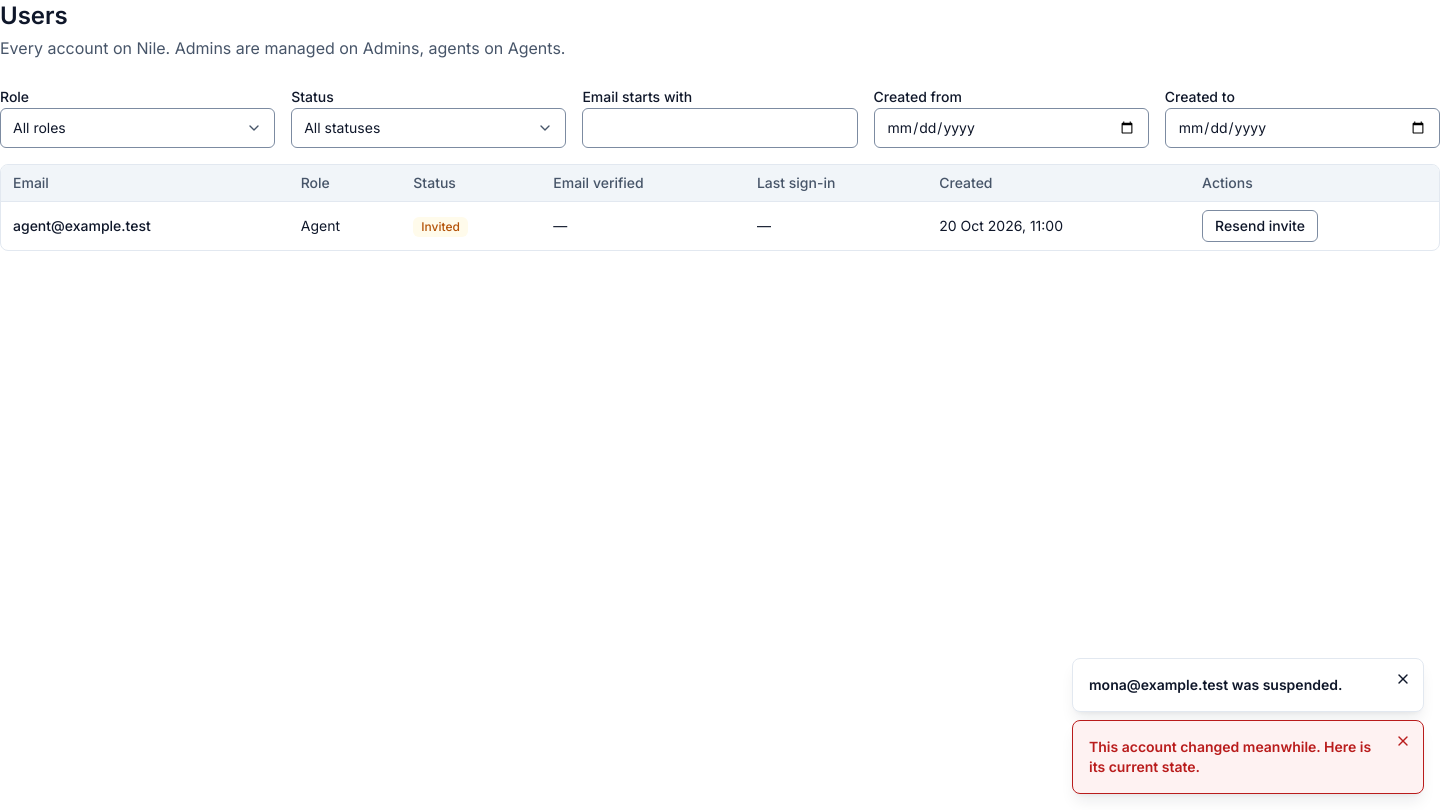
Test: users (spec 03 AD-24, T-M2) › resend an agent invite after confirming
Click the button "Resend invite": (1260, 226) [1202, 210, 1318, 242]
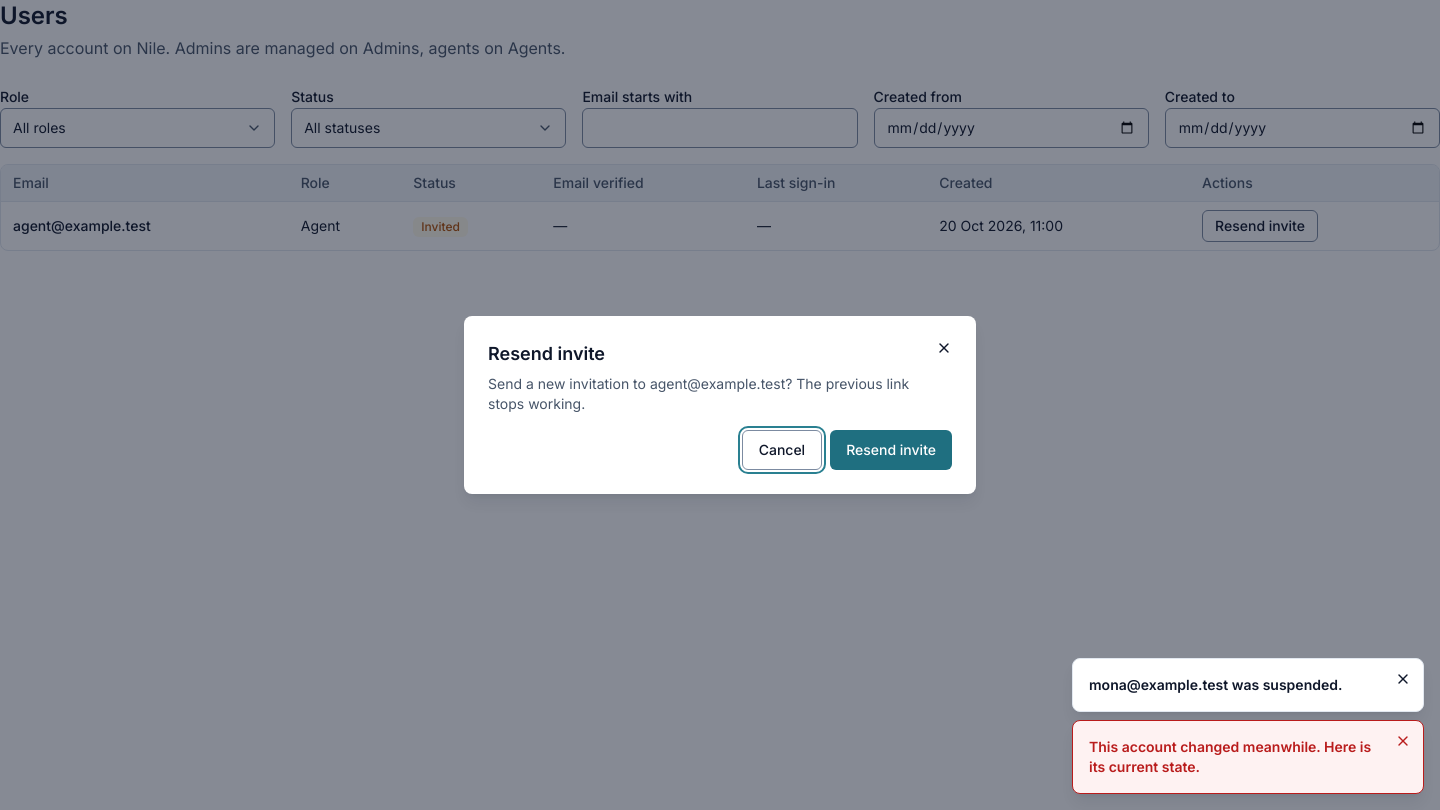
Click the button "Resend invite": (891, 450) [830, 430, 952, 470]
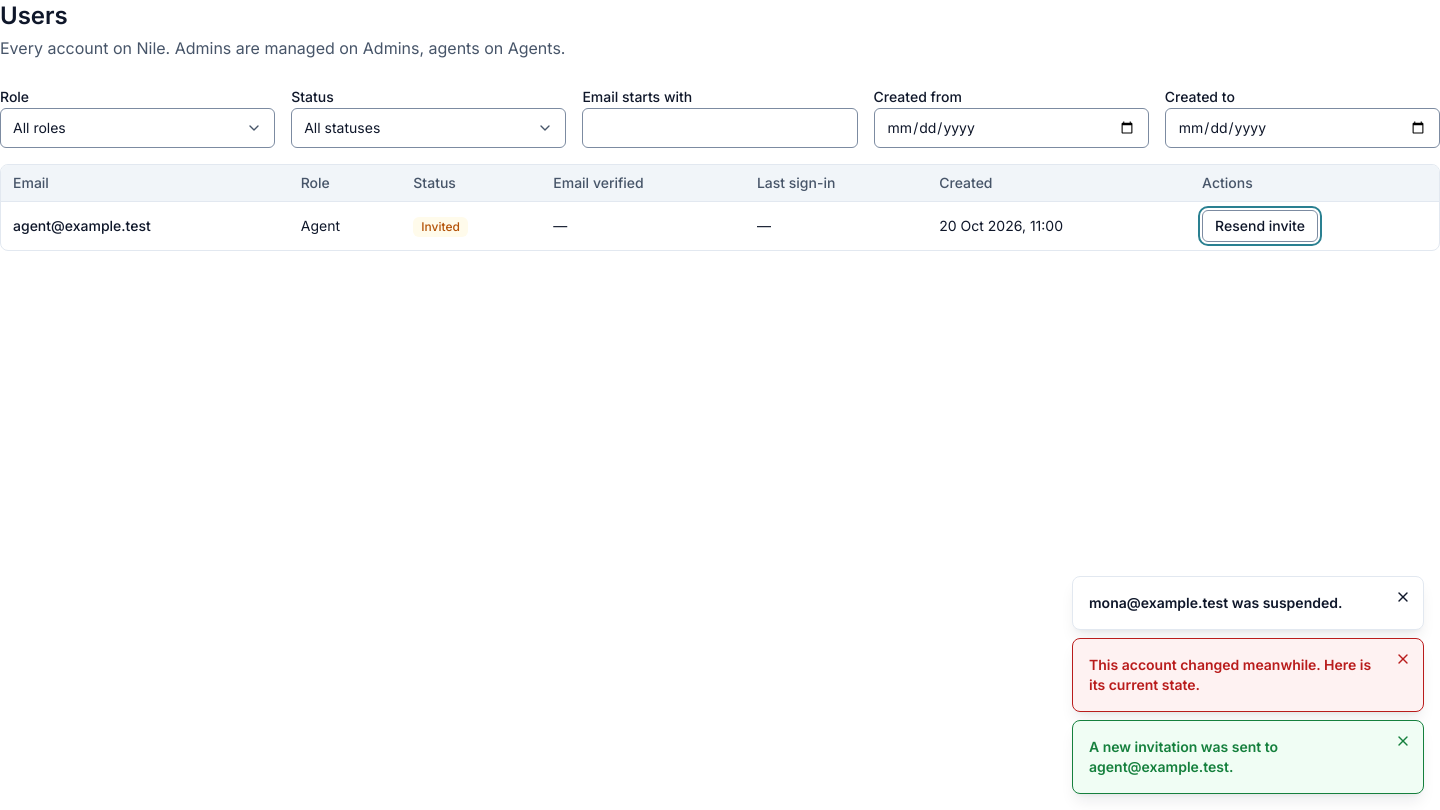
Check: the text "A new invitation was sent to agent@example.test." is shown, box [1089, 738, 1278, 775]
